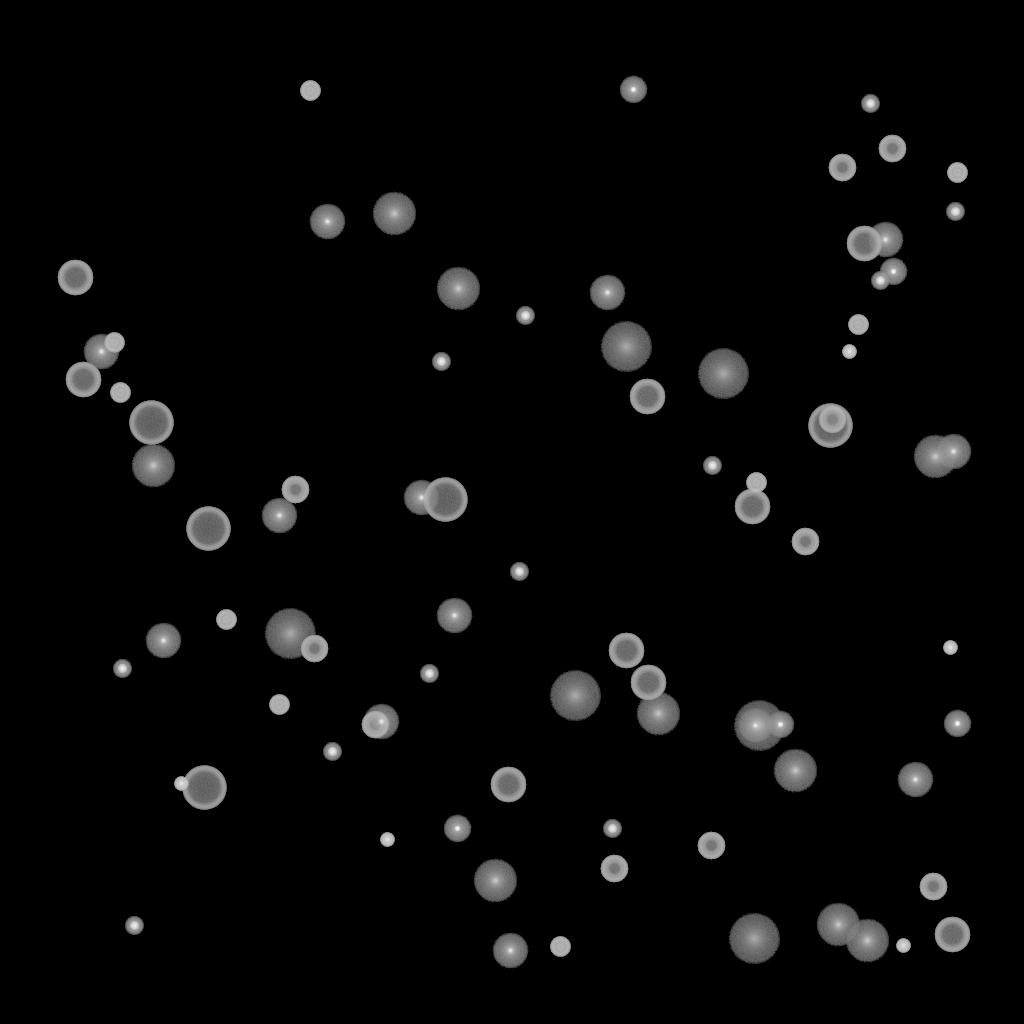depth:-10: (443, 815, 471, 843), (766, 711, 794, 739), (943, 710, 971, 738), (619, 76, 647, 104), (879, 258, 907, 286)
depth:-20: (420, 665, 438, 683), (703, 457, 721, 475), (125, 917, 143, 935), (871, 272, 889, 290), (323, 743, 341, 761), (432, 353, 450, 371), (861, 95, 879, 113), (516, 307, 534, 325), (113, 660, 131, 678), (603, 820, 621, 838), (510, 563, 528, 581), (946, 203, 964, 221)
depth:-30: (943, 641, 957, 655), (380, 833, 394, 847), (174, 777, 188, 791), (842, 345, 856, 359), (896, 939, 910, 953)
depth:-40: (848, 315, 868, 335), (110, 383, 130, 403), (947, 163, 967, 183), (550, 937, 570, 957), (104, 333, 124, 353), (216, 610, 236, 630), (269, 695, 289, 715), (300, 81, 320, 101), (746, 473, 766, 493)
depth:-50: (878, 135, 906, 163), (361, 711, 389, 739), (600, 855, 628, 883), (300, 635, 328, 663), (791, 528, 819, 556), (697, 832, 725, 860), (828, 154, 856, 182), (818, 406, 846, 434), (919, 873, 947, 901), (281, 476, 309, 504)
depth:-60: (934, 917, 970, 953), (734, 489, 770, 525), (57, 260, 93, 296), (629, 379, 665, 415), (608, 633, 644, 669), (65, 362, 101, 398), (630, 665, 666, 701), (846, 226, 882, 262), (490, 767, 526, 803)
depth:-70: (423, 478, 467, 522), (808, 404, 852, 448), (129, 401, 173, 445), (186, 507, 230, 551), (182, 766, 226, 810)
depth:0: (403, 480, 439, 516), (83, 334, 119, 370), (737, 708, 773, 744), (363, 704, 399, 740), (897, 762, 933, 798), (436, 598, 472, 634), (309, 204, 345, 240), (261, 498, 297, 534), (145, 623, 181, 659), (867, 222, 903, 258), (935, 434, 971, 470), (589, 275, 625, 311), (492, 933, 528, 969)
depth:10: (436, 267, 480, 311), (913, 435, 957, 479), (636, 692, 680, 736), (473, 859, 517, 903), (845, 919, 889, 963), (372, 192, 416, 236), (131, 444, 175, 488), (816, 903, 860, 947), (773, 749, 817, 793)
depth:20: (600, 322, 652, 372), (733, 701, 785, 751), (697, 349, 749, 399), (549, 671, 601, 721), (264, 609, 316, 659), (728, 914, 780, 964)
